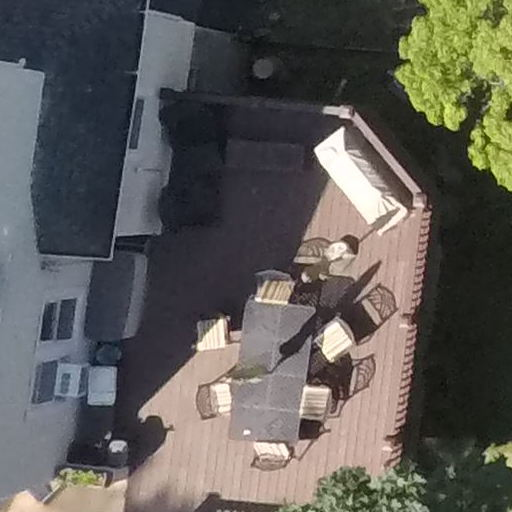barbecue: (307, 111, 415, 240)
flower bed: (50, 462, 122, 495)
porch: (90, 52, 472, 512)
table: (223, 284, 318, 461)
